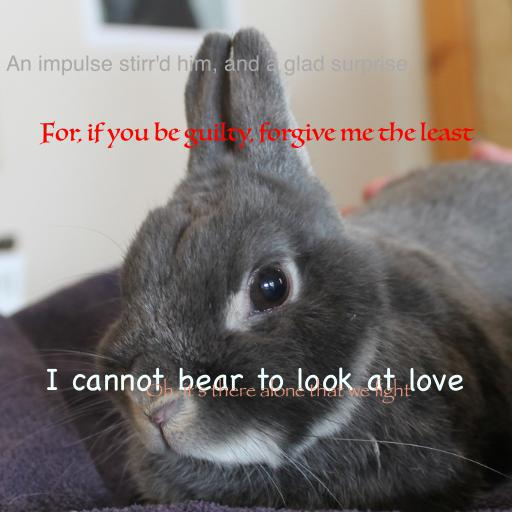Chalkboard: (44, 367, 464, 392)
Luminari: (39, 121, 473, 149)
Papyrus: (145, 378, 411, 404)
SignPainter: (6, 55, 408, 76)
